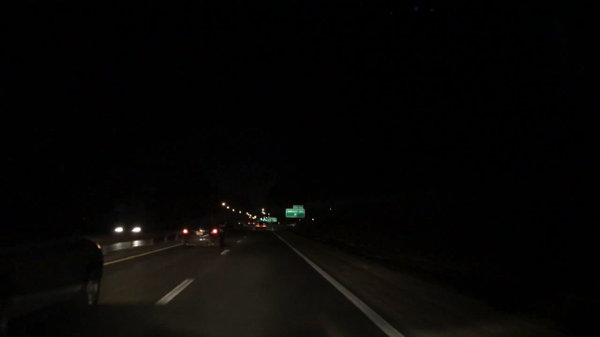car: (0, 235, 102, 337), (181, 219, 224, 250), (113, 222, 145, 234), (285, 224, 297, 231), (257, 221, 266, 229), (247, 220, 256, 227)
traffic sign: (286, 210, 305, 218), (264, 218, 278, 223), (294, 205, 305, 209)
